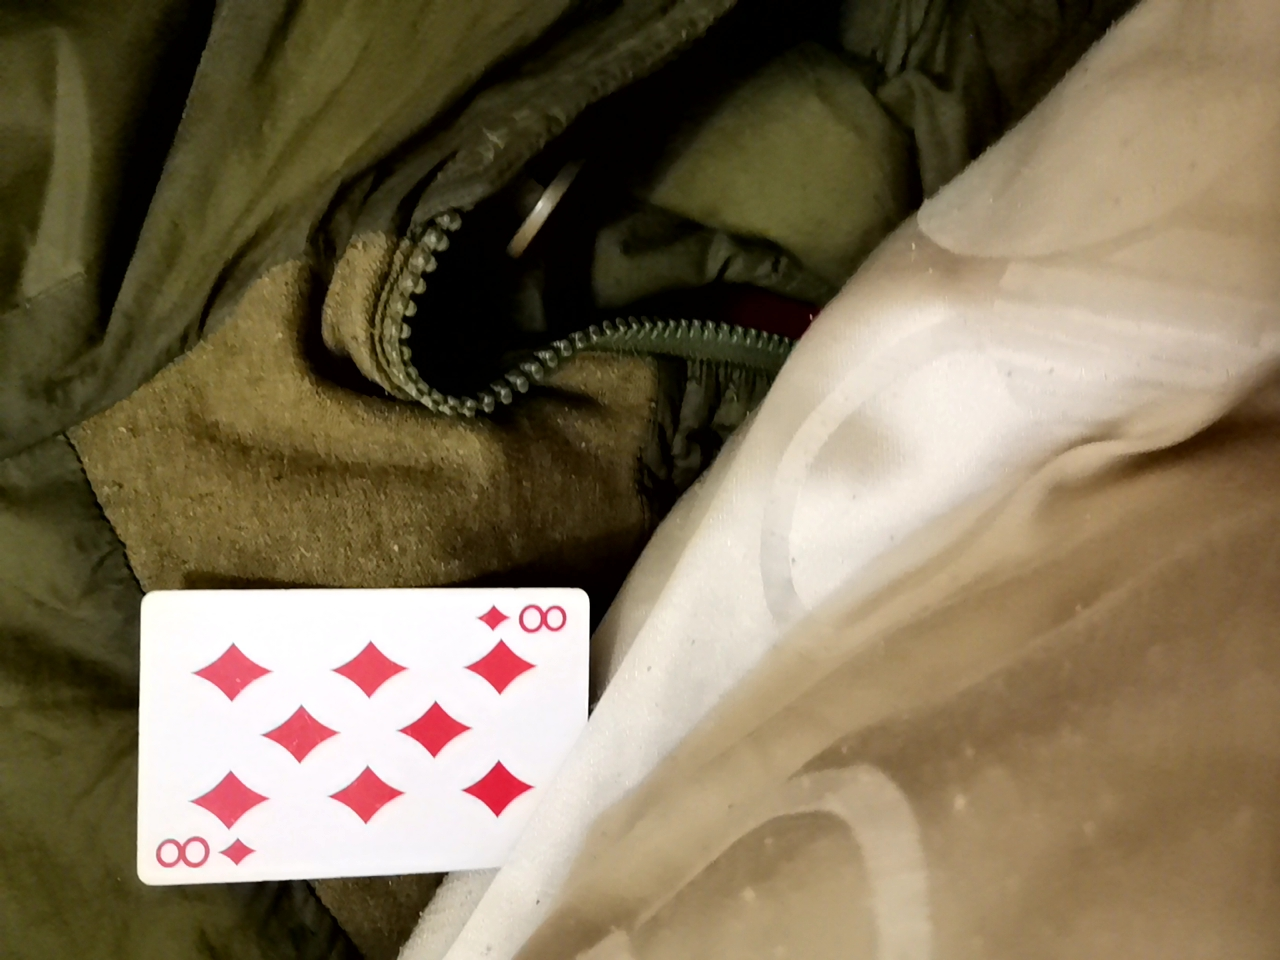fk 8: (144, 593, 583, 937)
